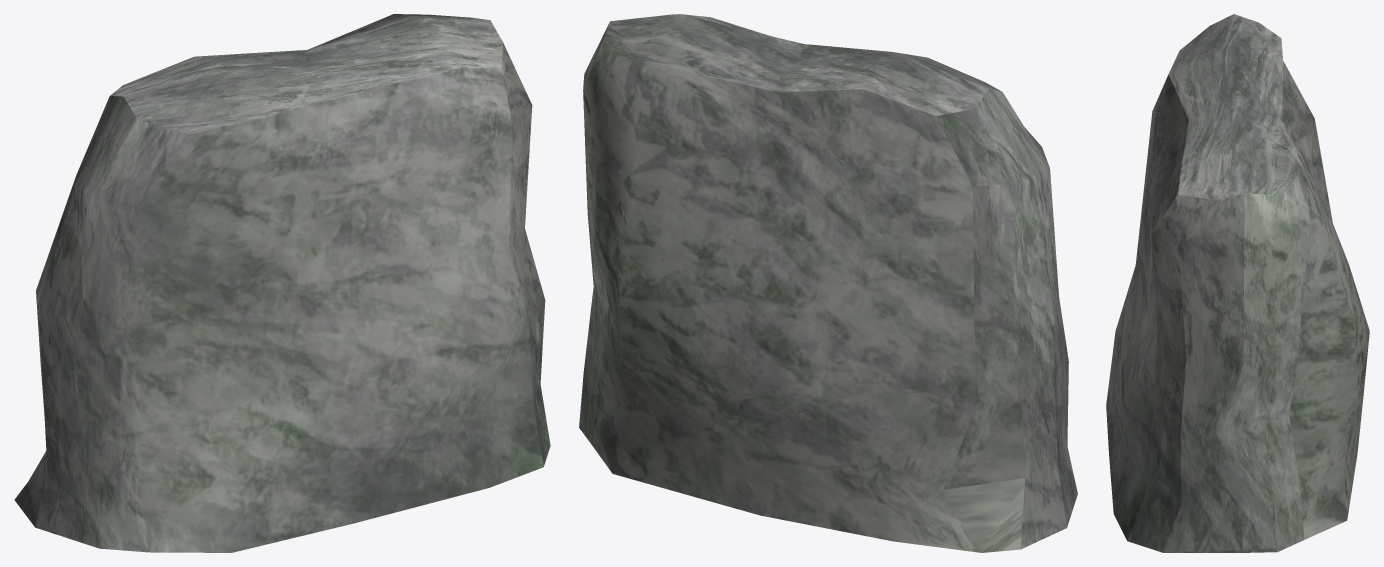
File: gakeRoad2.fbx
The picture shows the model from 3 angles, left to right: view 1: azimuth 30°, elevation 25°; view 2: azimuth 150°, elevation 25°; view 3: azimuth 270°, elevation 25°; orthographic projection. The views are drawn at different scales.
Parts seen in each view (by area): view 1: gakeRoad2; view 2: gakeRoad2; view 3: gakeRoad2.
Boxes of the visible parts, bbox=[...] form: gakeRoad2: bbox=[14, 14, 550, 552]; gakeRoad2: bbox=[579, 14, 1077, 552]; gakeRoad2: bbox=[1106, 14, 1369, 552].
Size of the model in its own units: 74.57 by 63.07 by 39.57.
Materials: 1 (1 with a texture image).
